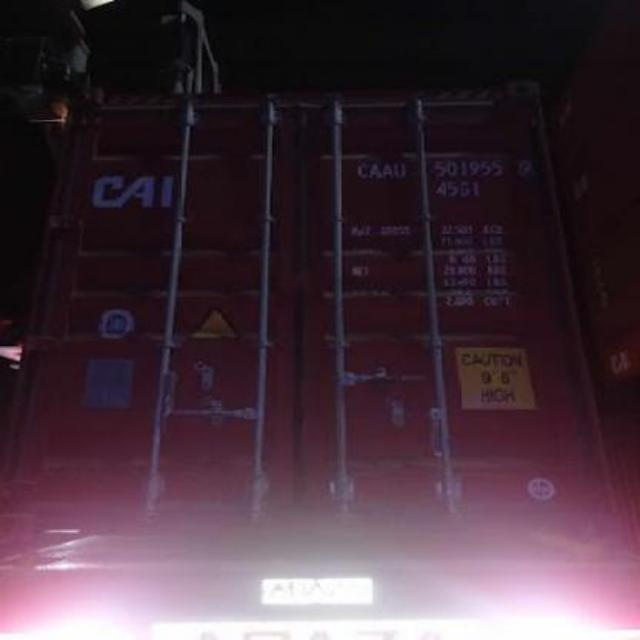0: (446, 158, 459, 178)
1: (458, 158, 468, 178)
5: (432, 158, 446, 178), (491, 157, 504, 177), (480, 157, 492, 177)
9: (518, 157, 534, 173), (468, 159, 482, 177)
A: (381, 162, 394, 178), (368, 162, 380, 178)
C: (356, 162, 369, 178)
U: (392, 161, 406, 177)
